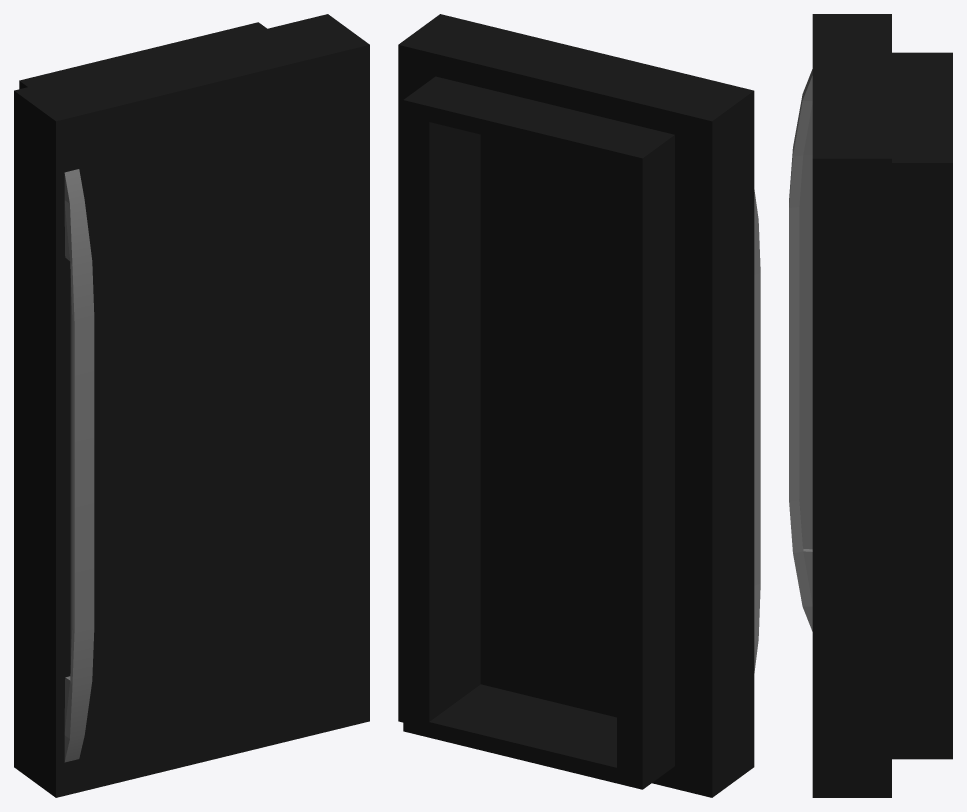
The model's file is Itr_Obj_Fridge1_Top_Door_Right_02.FBX.
The picture shows the model from 3 angles, left to right: view 1: azimuth 30°, elevation 25°; view 2: azimuth 150°, elevation 25°; view 3: azimuth 270°, elevation 25°; orthographic projection. The views are drawn at different scales.
Parts seen in each view (by area): view 1: Itr_Obj_Fridge1_Top_Door_Right_0; view 2: Itr_Obj_Fridge1_Top_Door_Right_0; view 3: Itr_Obj_Fridge1_Top_Door_Right_0.
Boxes of the visible parts, x1,y1,x2,y2 form: Itr_Obj_Fridge1_Top_Door_Right_0: (14, 14, 369, 797); Itr_Obj_Fridge1_Top_Door_Right_0: (398, 14, 760, 797); Itr_Obj_Fridge1_Top_Door_Right_0: (789, 14, 952, 797).
Size of the model in its own units: 22.45 by 46.23 by 10.74.
